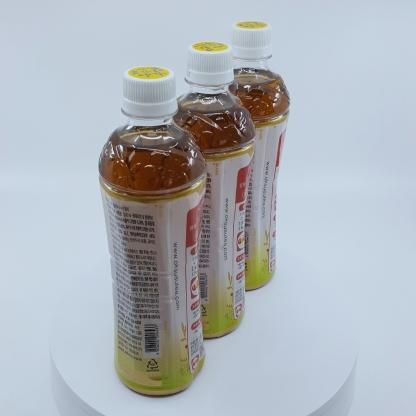---------500ML: (98, 65, 207, 396)
